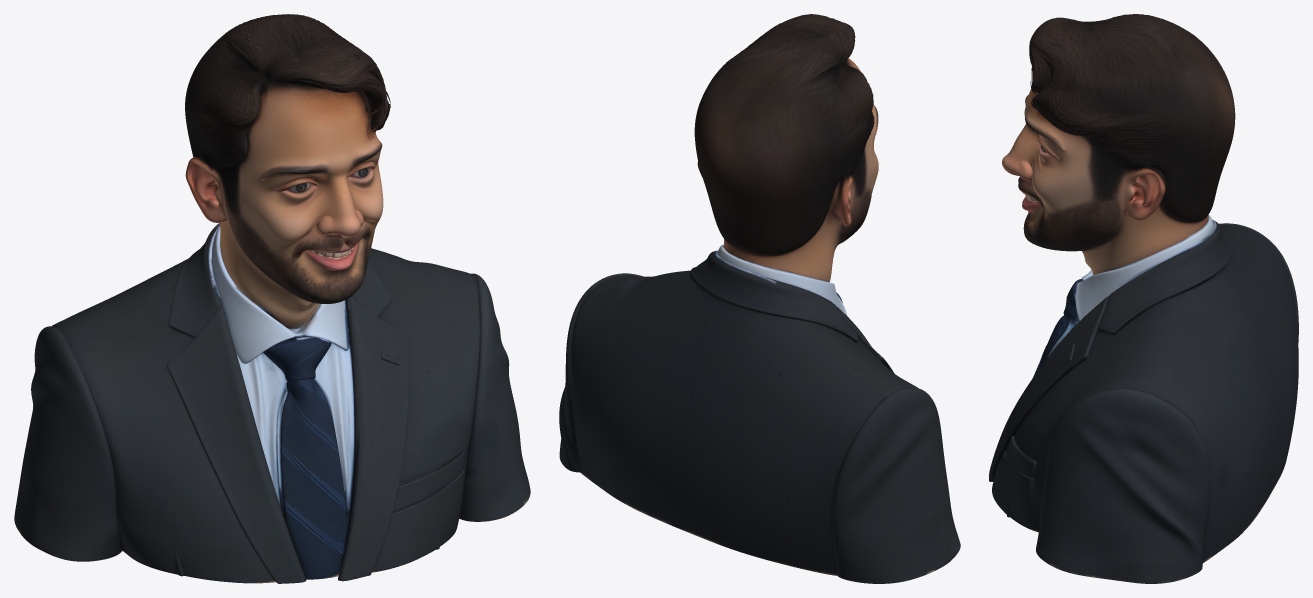
3 renders of one model, left to right at view 1: azimuth 30°, elevation 25°; view 2: azimuth 150°, elevation 25°; view 3: azimuth 270°, elevation 25°, orthographic. The views are drawn at different scales.
Visible parts, largest first — view 1: node_0; view 2: node_0; view 3: node_0.
Part boxes in pixels (x1,y1,x2,y2): node_0: (14,14,530,583); node_0: (559,14,960,583); node_0: (989,14,1298,583).
Size of the model in its own units: 0.8066 by 0.8429 by 0.5216.
Materials: 1 (1 with a texture image).
